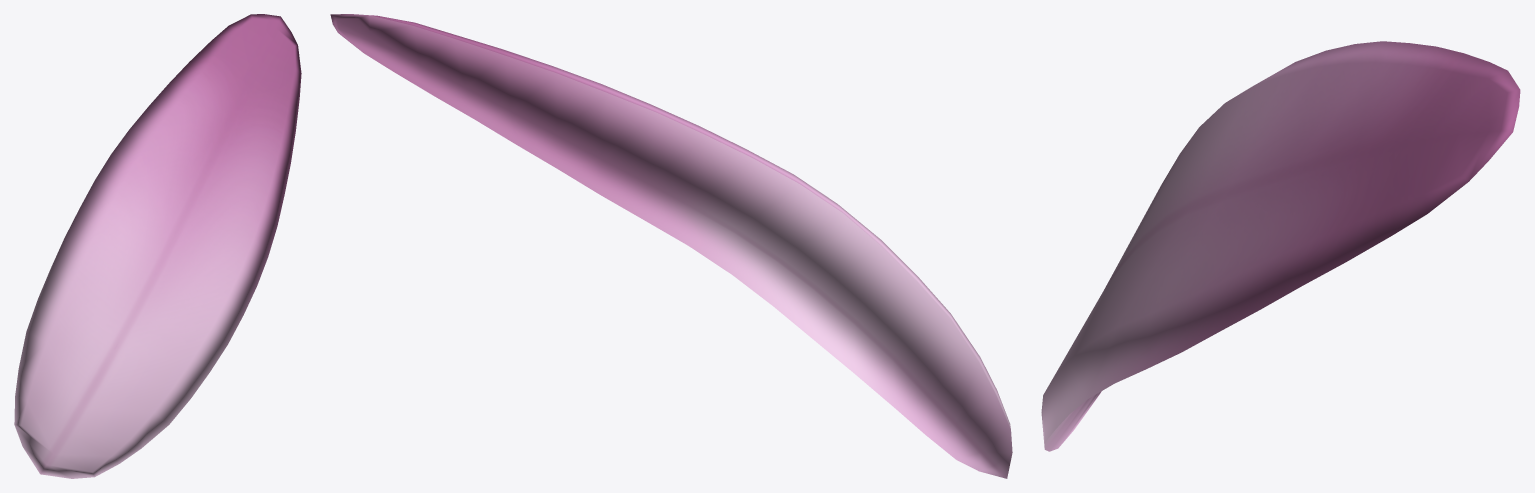
The model's file is petal2.obj.
3 views of the same model, side by side, from view 1: azimuth 30°, elevation 25°; view 2: azimuth 150°, elevation 25°; view 3: azimuth 270°, elevation 25° (orthographic). The views are drawn at different scales.
Parts seen in each view (by area): view 1: Object026; view 2: Object026; view 3: Object026.
Part boxes in pixels (box(x1,y1,x2,y2)): Object026: box(14, 14, 301, 478); Object026: box(330, 14, 1012, 478); Object026: box(1041, 41, 1520, 451).
Size of the model in its own units: 88.31 by 72.33 by 50.31.
